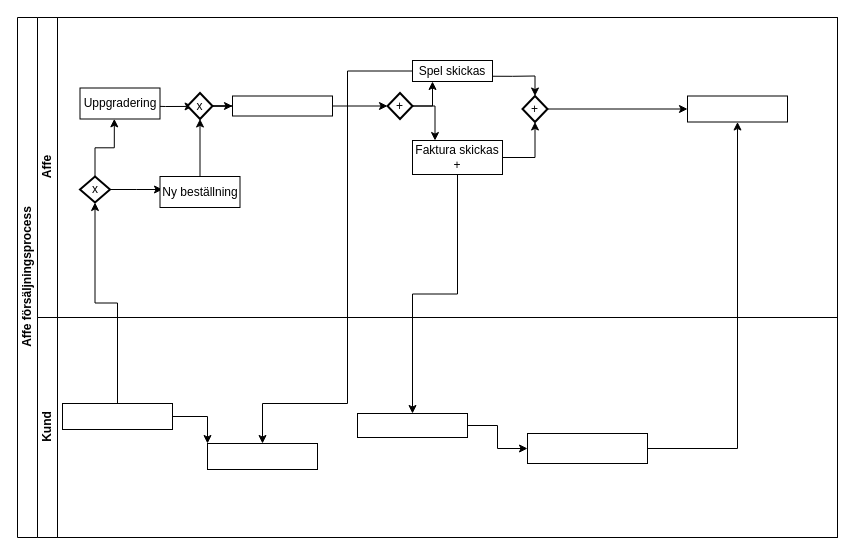
Some shapes in this 855 by 555 pixel diagram are drawn without their labels. The shapes that lost their labels are listed below. From the top down, each one's centre as x and y in pixels, then its label:
point (282, 105): Registrering
point (737, 108): Transaktion klar
point (117, 416): Kunden beställer
point (412, 425): Kund mottar faktura
point (262, 456): Kund mottar spel
point (587, 448): Kunden betalar
